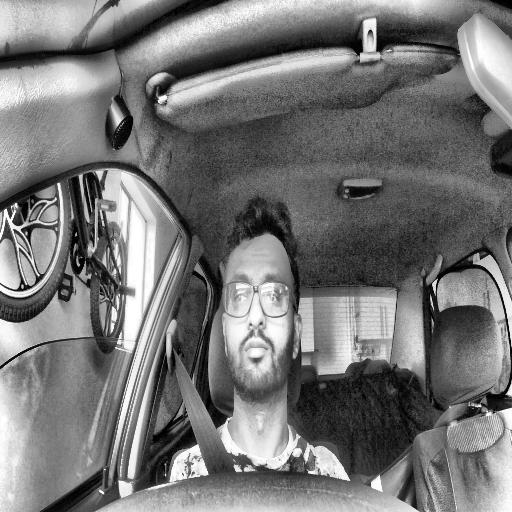awake: (221, 196, 303, 404)
